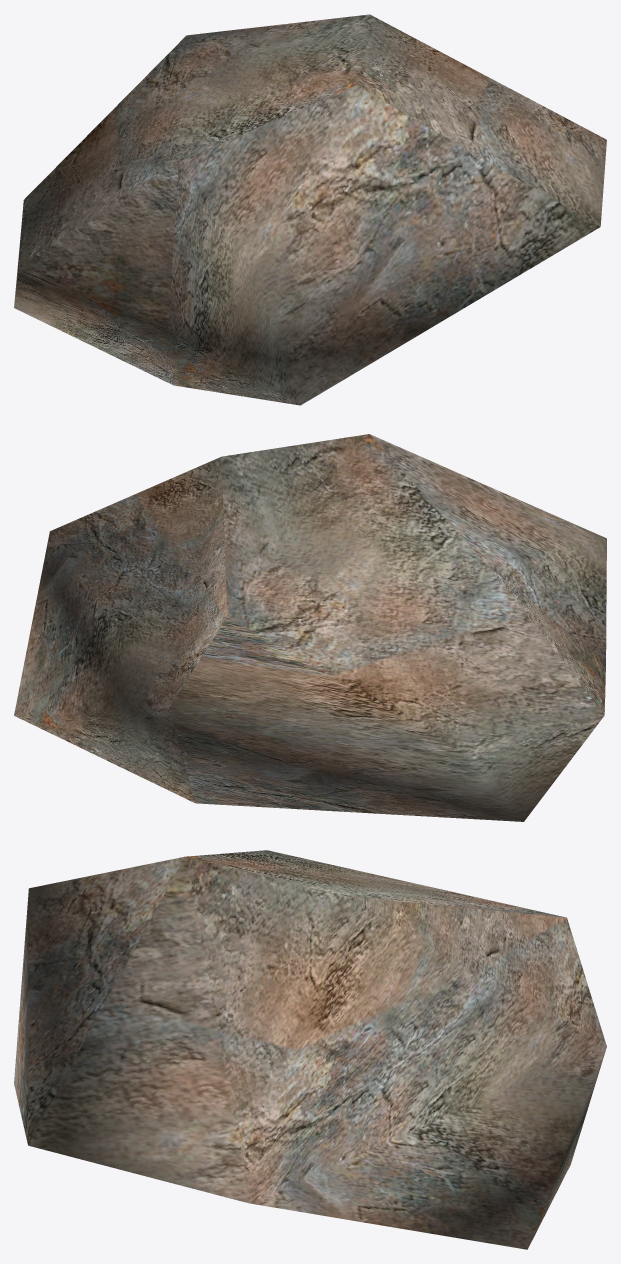
Rendered from rock_forestrock_sm_l1.fbx.
The picture shows the model from 3 angles, top to bottom: view 1: azimuth 30°, elevation 25°; view 2: azimuth 150°, elevation 25°; view 3: azimuth 270°, elevation 25°; orthographic projection. The views are drawn at different scales.
Visible parts, largest first — view 1: mesh_node; view 2: mesh_node; view 3: mesh_node.
Boxes of the visible parts, x1,y1,x2,y2 form: mesh_node: [14, 14, 606, 405]; mesh_node: [14, 434, 606, 821]; mesh_node: [14, 850, 606, 1249].
Size of the model in its own units: 0.6103 by 0.2814 by 0.448.
